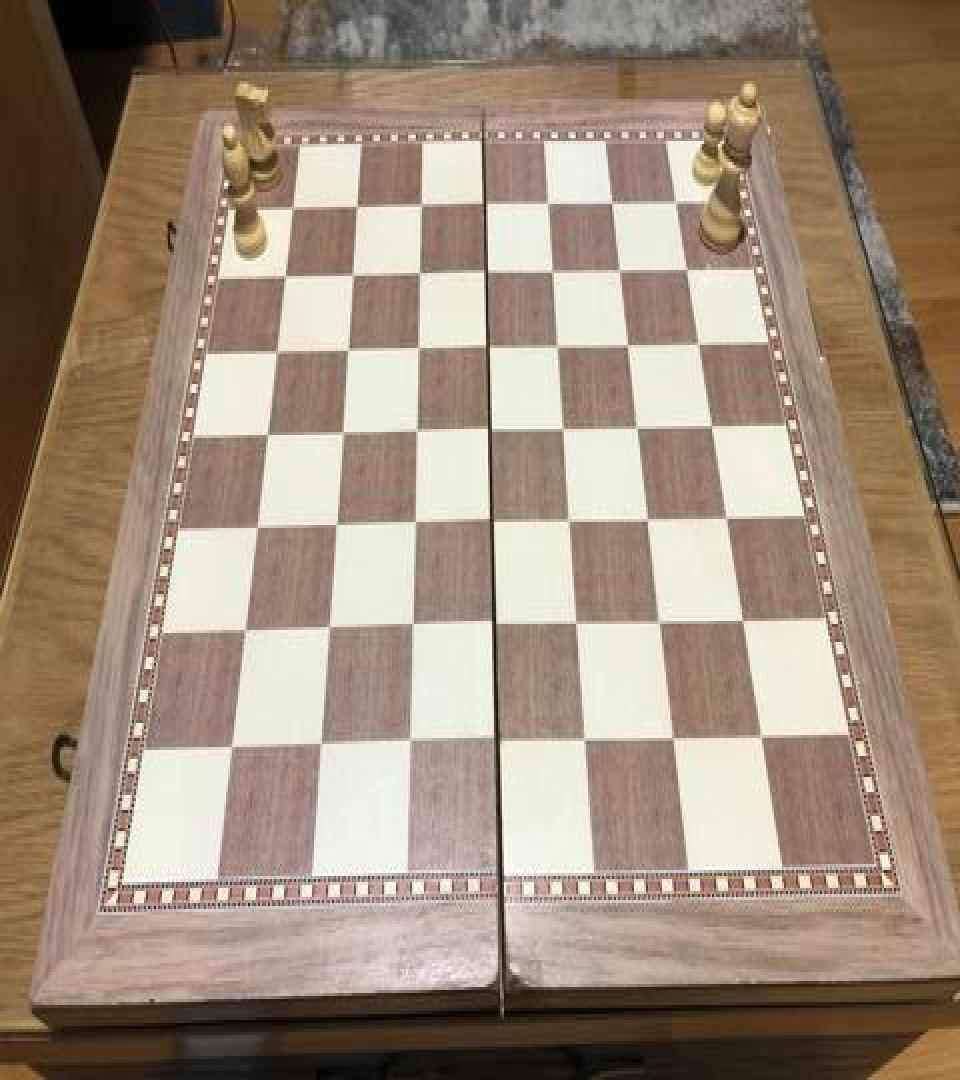xcorner: (731, 601, 755, 638), (318, 610, 342, 647), (663, 718, 687, 755), (661, 184, 685, 220), (598, 184, 622, 220), (535, 186, 559, 222), (472, 186, 496, 222), (346, 189, 370, 225), (282, 189, 306, 225), (672, 250, 696, 286), (606, 252, 630, 288), (540, 254, 564, 290), (474, 254, 498, 290), (408, 255, 432, 291), (341, 256, 365, 292), (275, 258, 299, 294), (685, 326, 709, 362), (615, 326, 639, 362), (546, 327, 570, 363), (406, 330, 430, 366), (336, 332, 360, 368), (266, 333, 290, 369), (698, 406, 722, 442), (625, 408, 649, 444), (552, 410, 576, 446), (479, 411, 503, 447), (331, 414, 355, 450), (257, 416, 281, 452), (713, 498, 737, 534), (636, 500, 660, 536), (559, 501, 583, 537), (481, 504, 505, 540), (403, 506, 427, 542), (325, 507, 349, 543), (247, 508, 271, 544), (649, 603, 673, 639), (567, 604, 591, 640), (484, 608, 508, 644), (401, 609, 425, 645), (235, 612, 259, 648), (750, 717, 774, 753), (575, 722, 599, 758), (487, 724, 511, 760), (399, 726, 423, 762), (311, 729, 335, 765), (222, 730, 246, 766), (409, 188, 433, 223), (476, 329, 500, 364), (405, 413, 429, 448)
